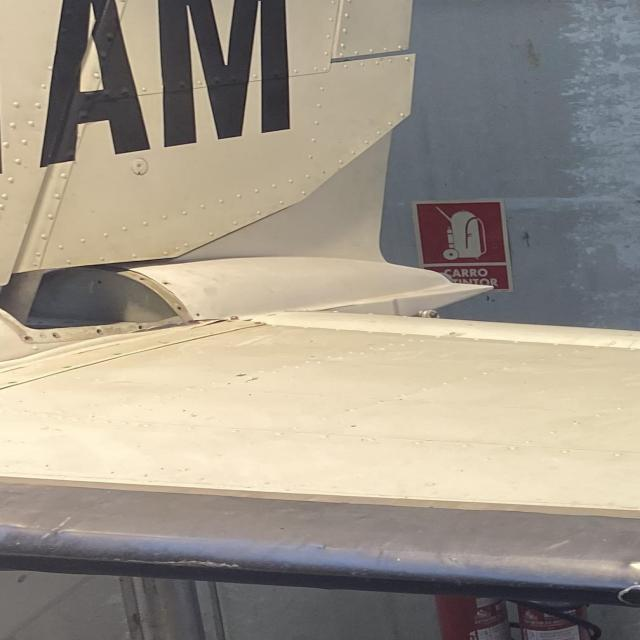Paint-off: (243, 376, 260, 383), (348, 424, 358, 428)
